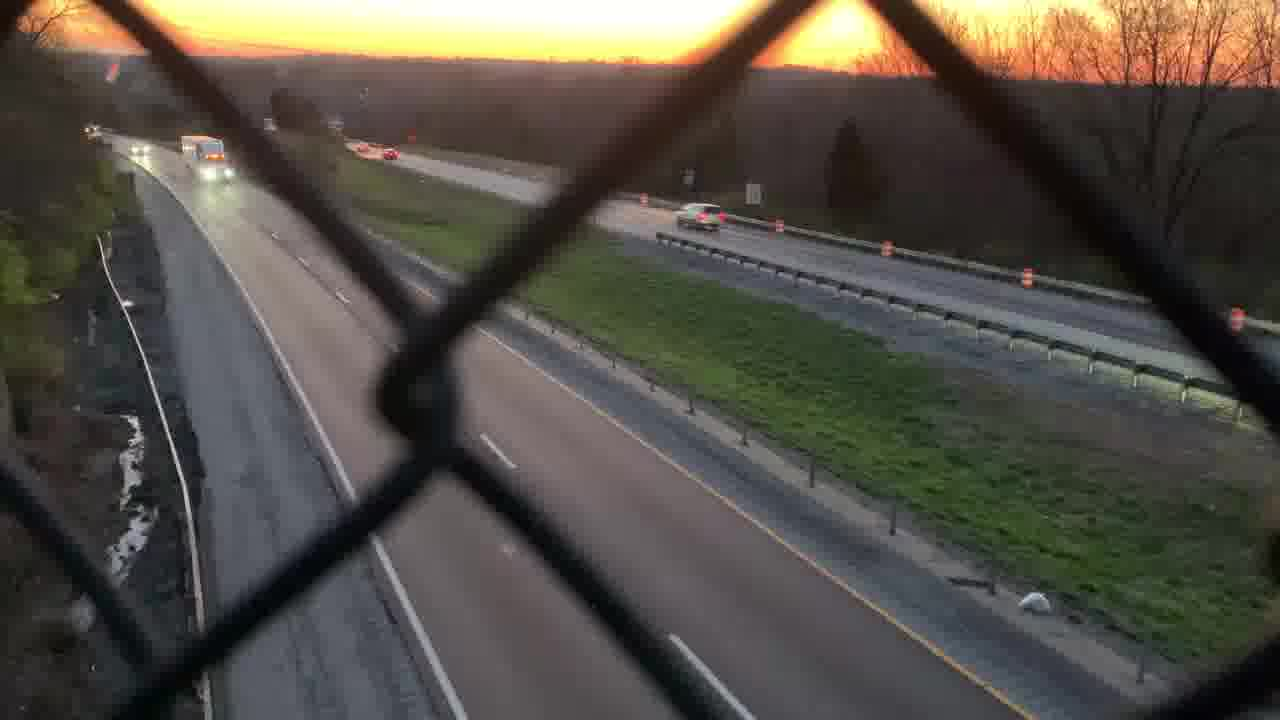heavyTruck: (176, 132, 236, 185)
largeCar: (674, 204, 731, 229)
